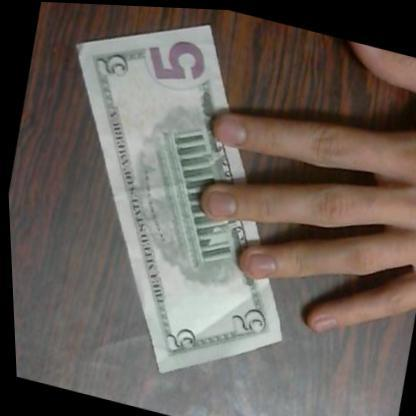five-back: (10, 0, 345, 406)
